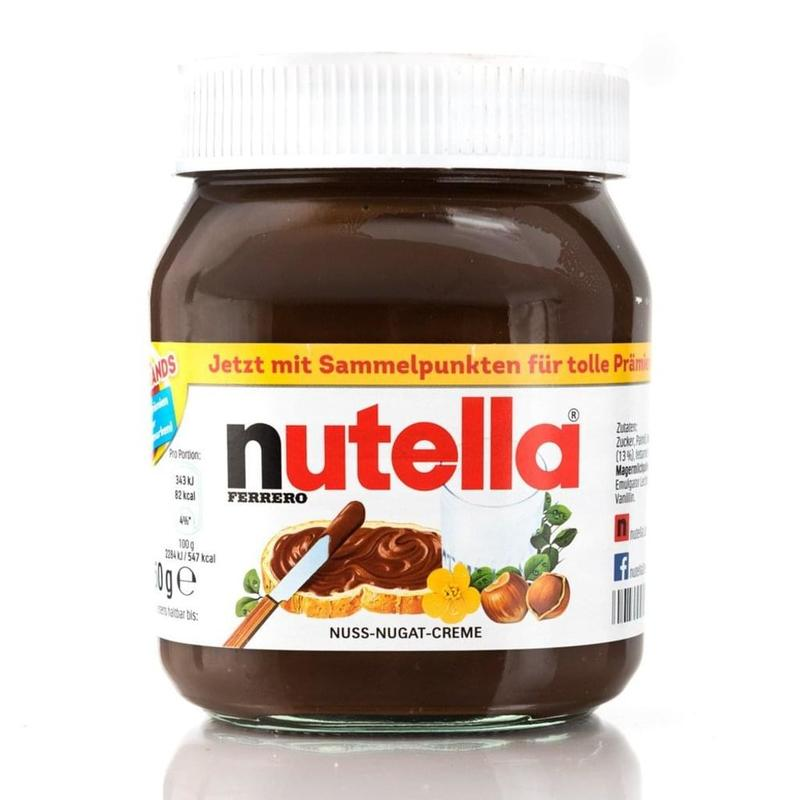nutella: (150, 48, 653, 738)
